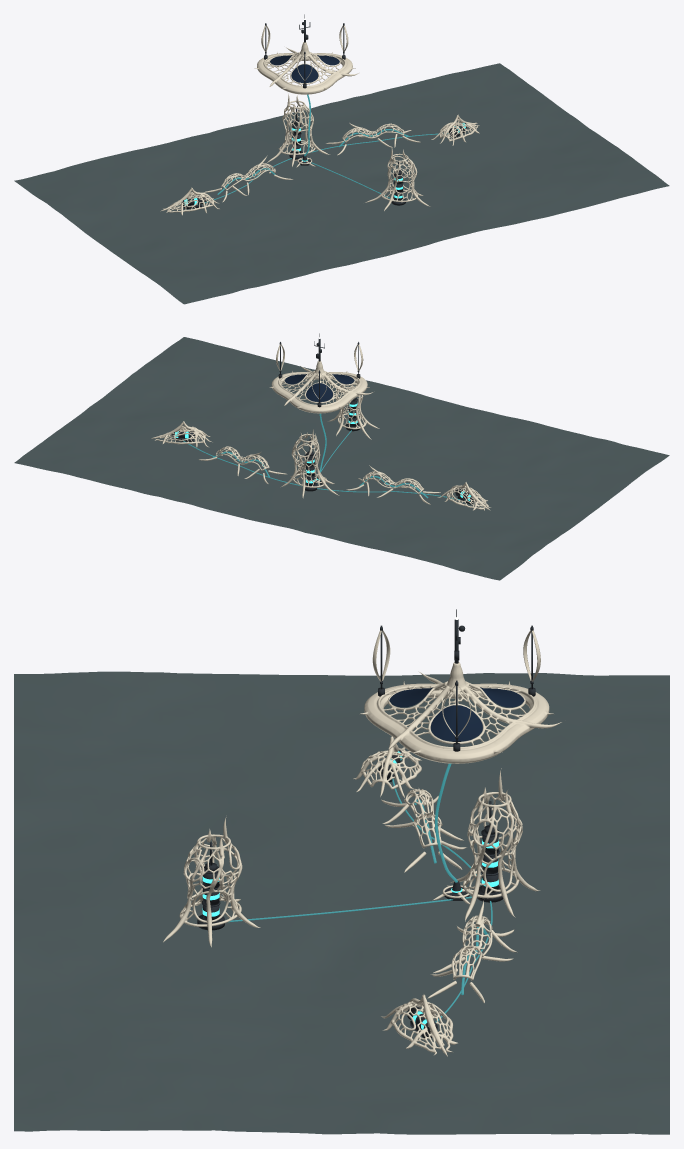
File: nodal_scene.glb
The picture shows the model from 3 angles, top to bottom: view 1: azimuth 30°, elevation 25°; view 2: azimuth 150°, elevation 25°; view 3: azimuth 270°, elevation 25°; orthographic projection. The views are drawn at different scales.
Parts seen in each view (by area): view 1: ENV__SEABED, ATOL_01__shell, CANYON_01__shell, CANYON_02__shell, ATOL_01__solar, CONNECTOR_02__shell, CONNECTOR_01__shell, RIDGE_01__shell, RIDGE_02__shell; view 2: ENV__SEABED, ATOL_01__shell, CANYON_01__shell, CANYON_02__shell, CONNECTOR_01__shell, ATOL_01__solar, CONNECTOR_02__shell, RIDGE_02__shell, RIDGE_01__shell; view 3: ENV__SEABED, ATOL_01__shell, CANYON_01__shell, CANYON_02__shell, ATOL_01__solar, RIDGE_02__shell, CONNECTOR_02__shell, CONNECTOR_01__shell, RIDGE_01__shell, ATOL_01__wind_blades, ATOL_01__tech, CANYON_01__core (+1 smaller).
Part boxes in pixels (bbox=[...]): ENV__SEABED: bbox=[14, 63, 669, 304]; ATOL_01__shell: bbox=[254, 42, 358, 94]; CANYON_01__shell: bbox=[266, 93, 330, 166]; CANYON_02__shell: bbox=[365, 146, 430, 210]; ATOL_01__solar: bbox=[270, 55, 339, 82]; CONNECTOR_02__shell: bbox=[326, 123, 420, 155]; CONNECTOR_01__shell: bbox=[203, 155, 293, 202]; RIDGE_01__shell: bbox=[160, 187, 219, 215]; RIDGE_02__shell: bbox=[431, 114, 479, 145]; ENV__SEABED: bbox=[14, 337, 669, 580]; ATOL_01__shell: bbox=[269, 361, 373, 413]; CANYON_01__shell: bbox=[281, 429, 339, 498]; CANYON_02__shell: bbox=[327, 382, 379, 439]; CONNECTOR_01__shell: bbox=[346, 465, 440, 504]; ATOL_01__solar: bbox=[284, 374, 354, 401]; CONNECTOR_02__shell: bbox=[198, 446, 287, 484]; RIDGE_02__shell: bbox=[151, 421, 212, 447]; RIDGE_01__shell: bbox=[437, 482, 490, 510]; ENV__SEABED: bbox=[14, 671, 669, 1134]; ATOL_01__shell: bbox=[359, 662, 561, 763]; CANYON_01__shell: bbox=[450, 768, 540, 921]; CANYON_02__shell: bbox=[163, 816, 260, 947]; ATOL_01__solar: bbox=[389, 687, 524, 741]; RIDGE_02__shell: bbox=[381, 994, 457, 1056]; CONNECTOR_02__shell: bbox=[427, 900, 517, 1003]; CONNECTOR_01__shell: bbox=[381, 788, 466, 872]; RIDGE_01__shell: bbox=[353, 736, 421, 797]; ATOL_01__wind_blades: bbox=[372, 630, 540, 736]; ATOL_01__tech: bbox=[378, 609, 535, 751]; CANYON_01__core: bbox=[477, 801, 503, 902].
Bounding box in the file's own units: 66 × 19.55 × 40.
